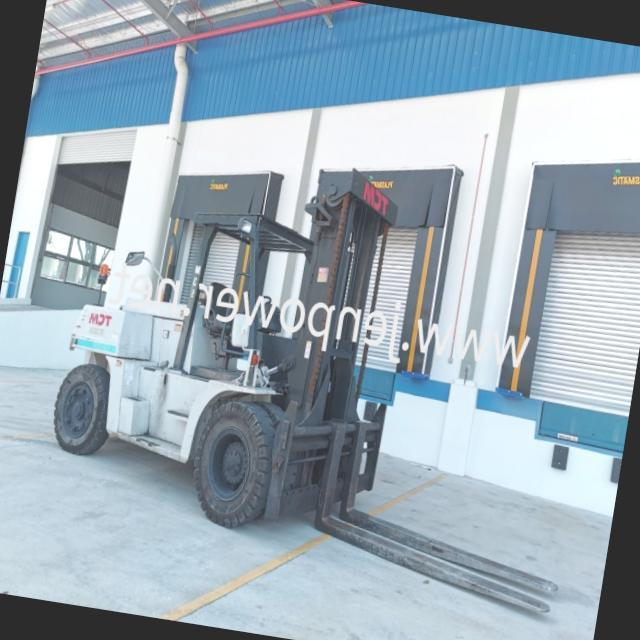forklift: (35, 116, 428, 554)
